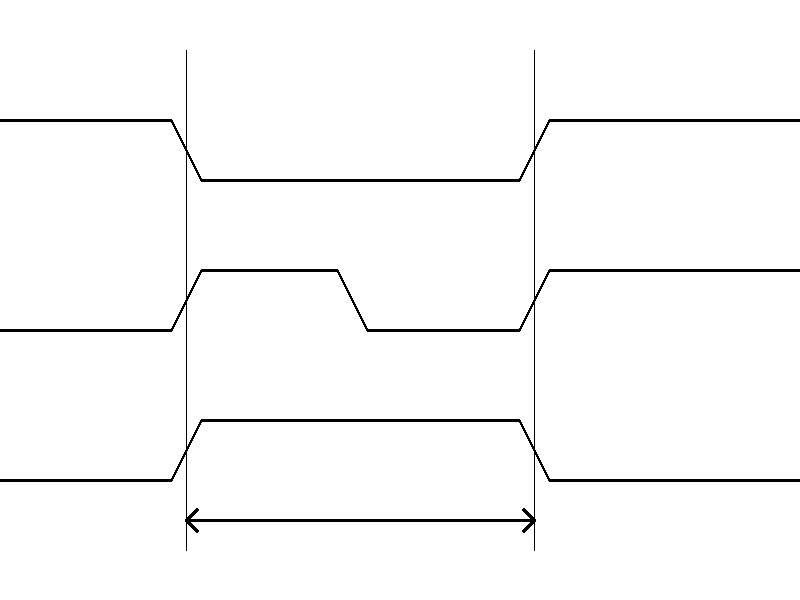double_arrow: (186, 505, 534, 535)
